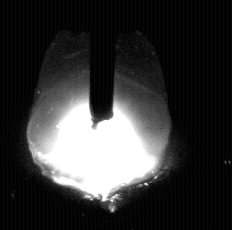arame: (90, 0, 115, 130)
poca: (26, 0, 170, 230)
